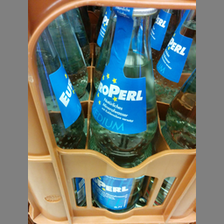water: (89, 7, 159, 213), (34, 27, 86, 204)
